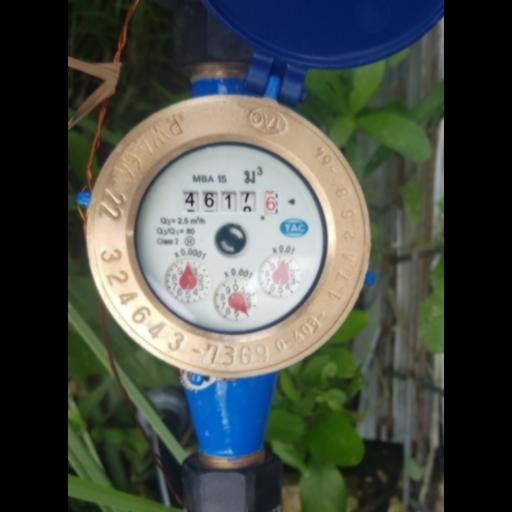1: (223, 192, 236, 213)
4: (184, 192, 199, 212)
6: (265, 191, 278, 214), (203, 192, 217, 213)
7: (242, 192, 256, 213)
border_water_meter_number: (181, 189, 279, 215)
